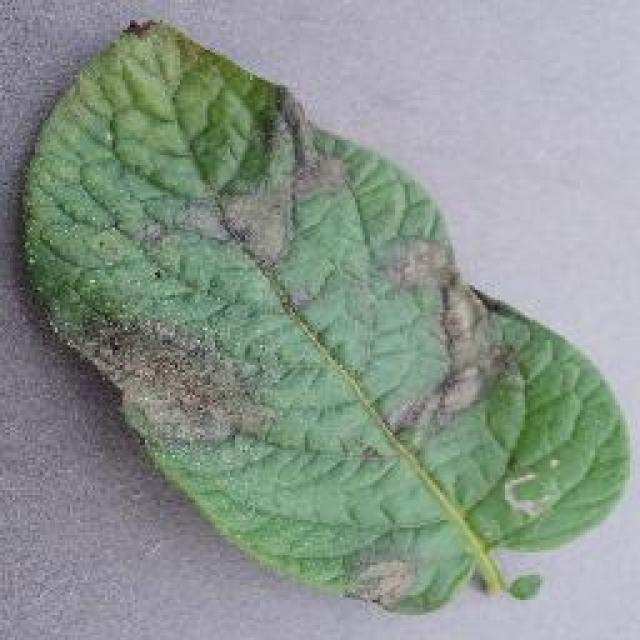late_blight: (15, 15, 633, 617)
